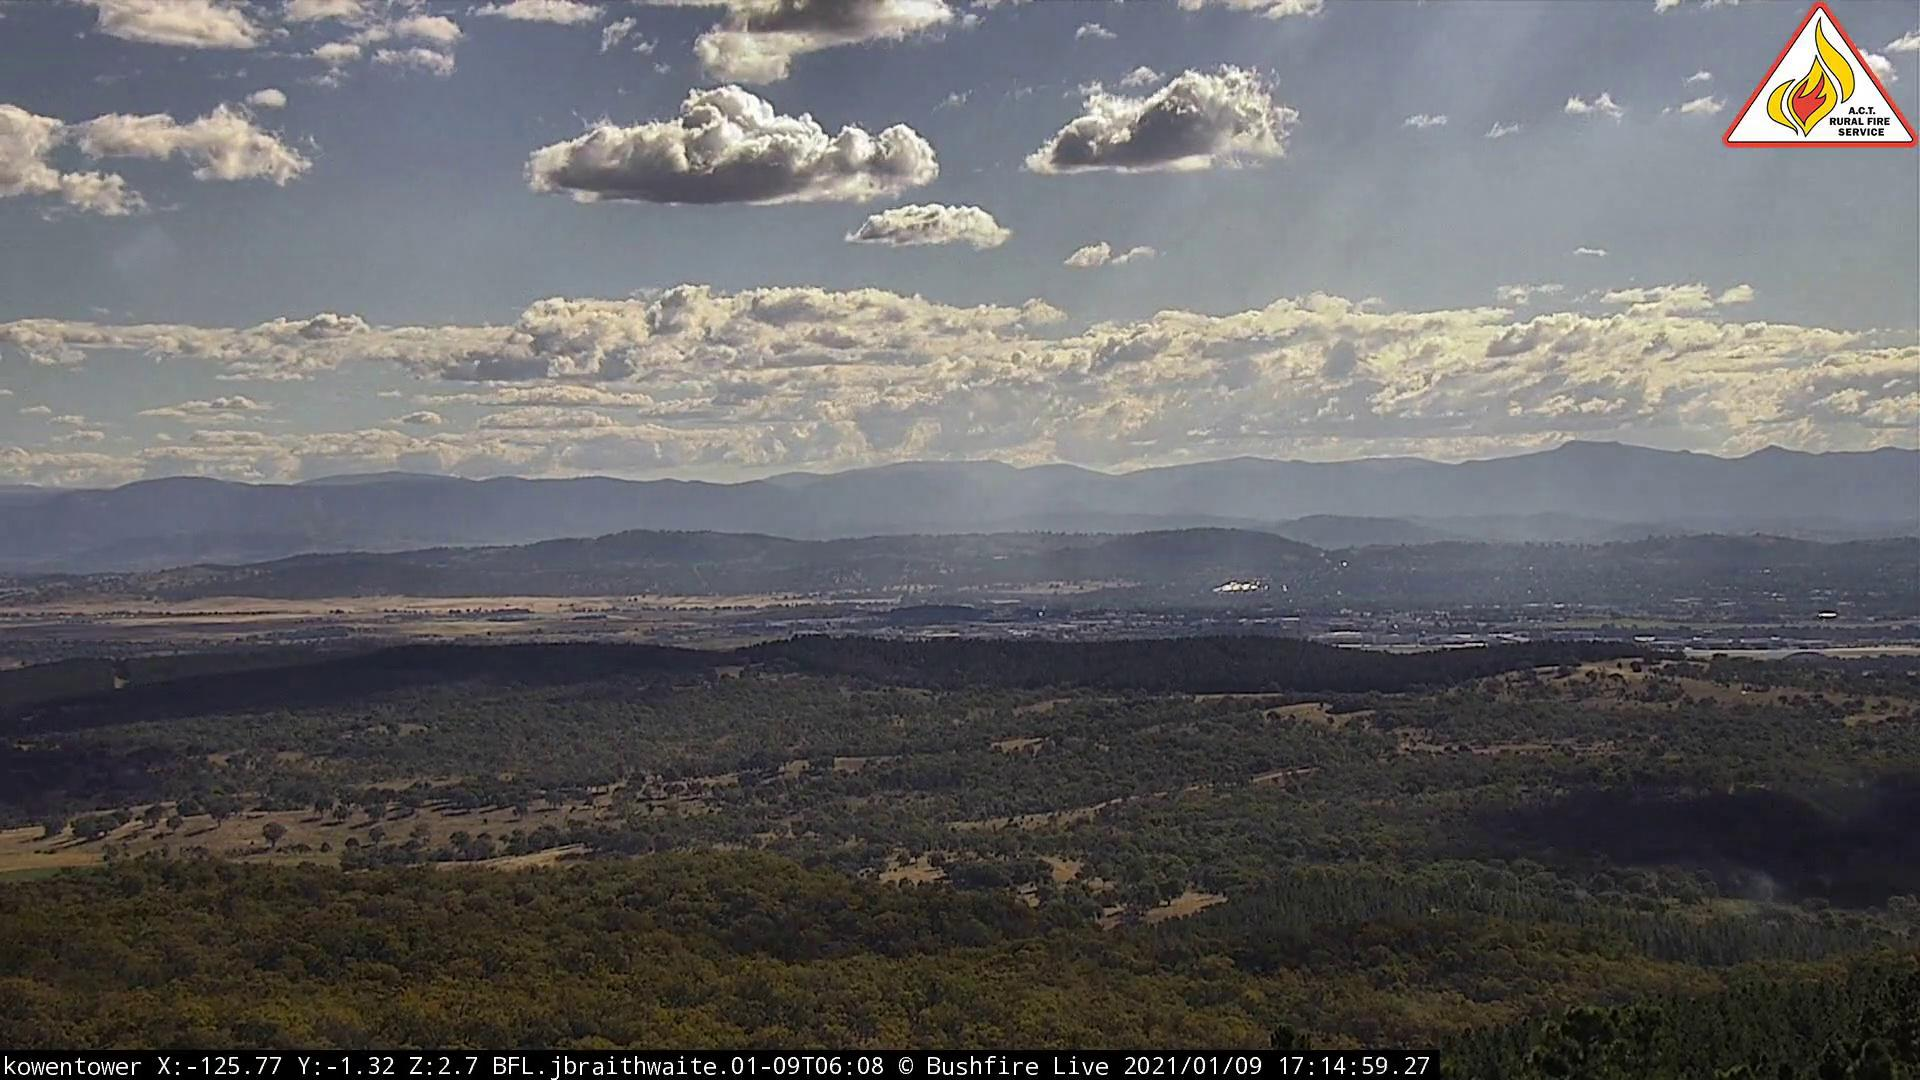instance_salient_object: (895, 527, 1029, 605)
